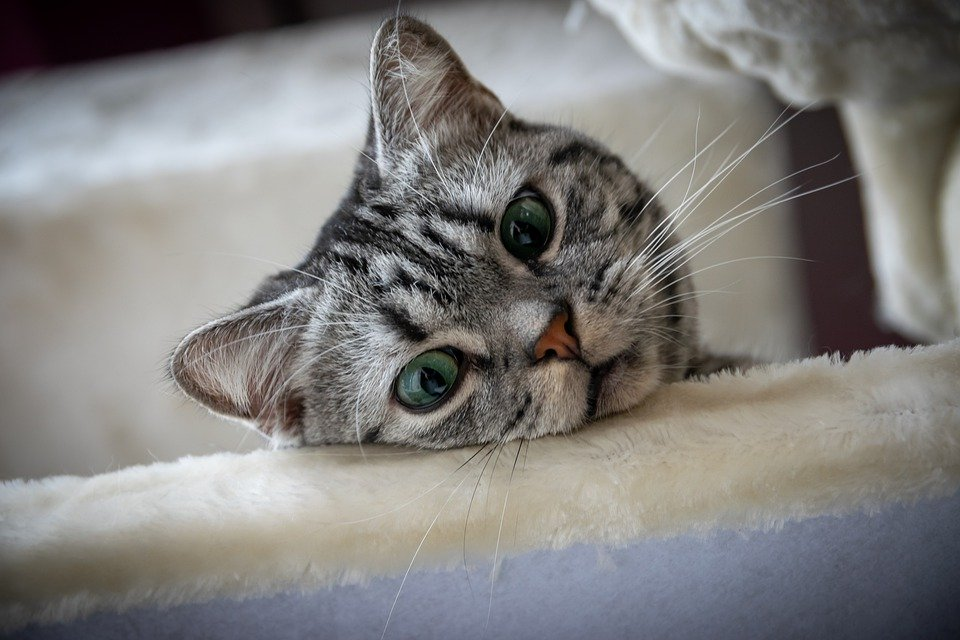cat: (164, 11, 738, 460)
cat-face: (155, 13, 714, 465)
